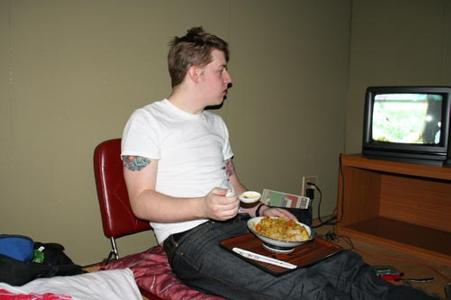person: (122, 28, 399, 300)
